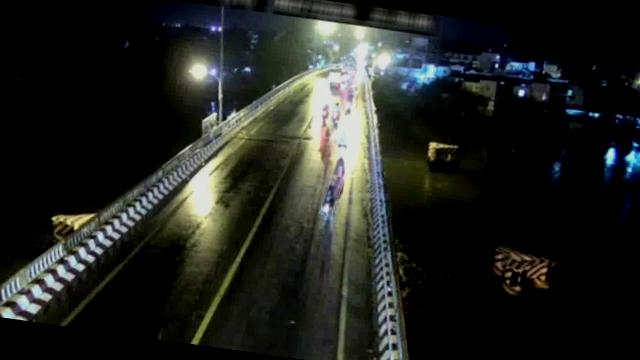Bike: (320, 173, 342, 218), (318, 102, 331, 124), (330, 100, 341, 123)
